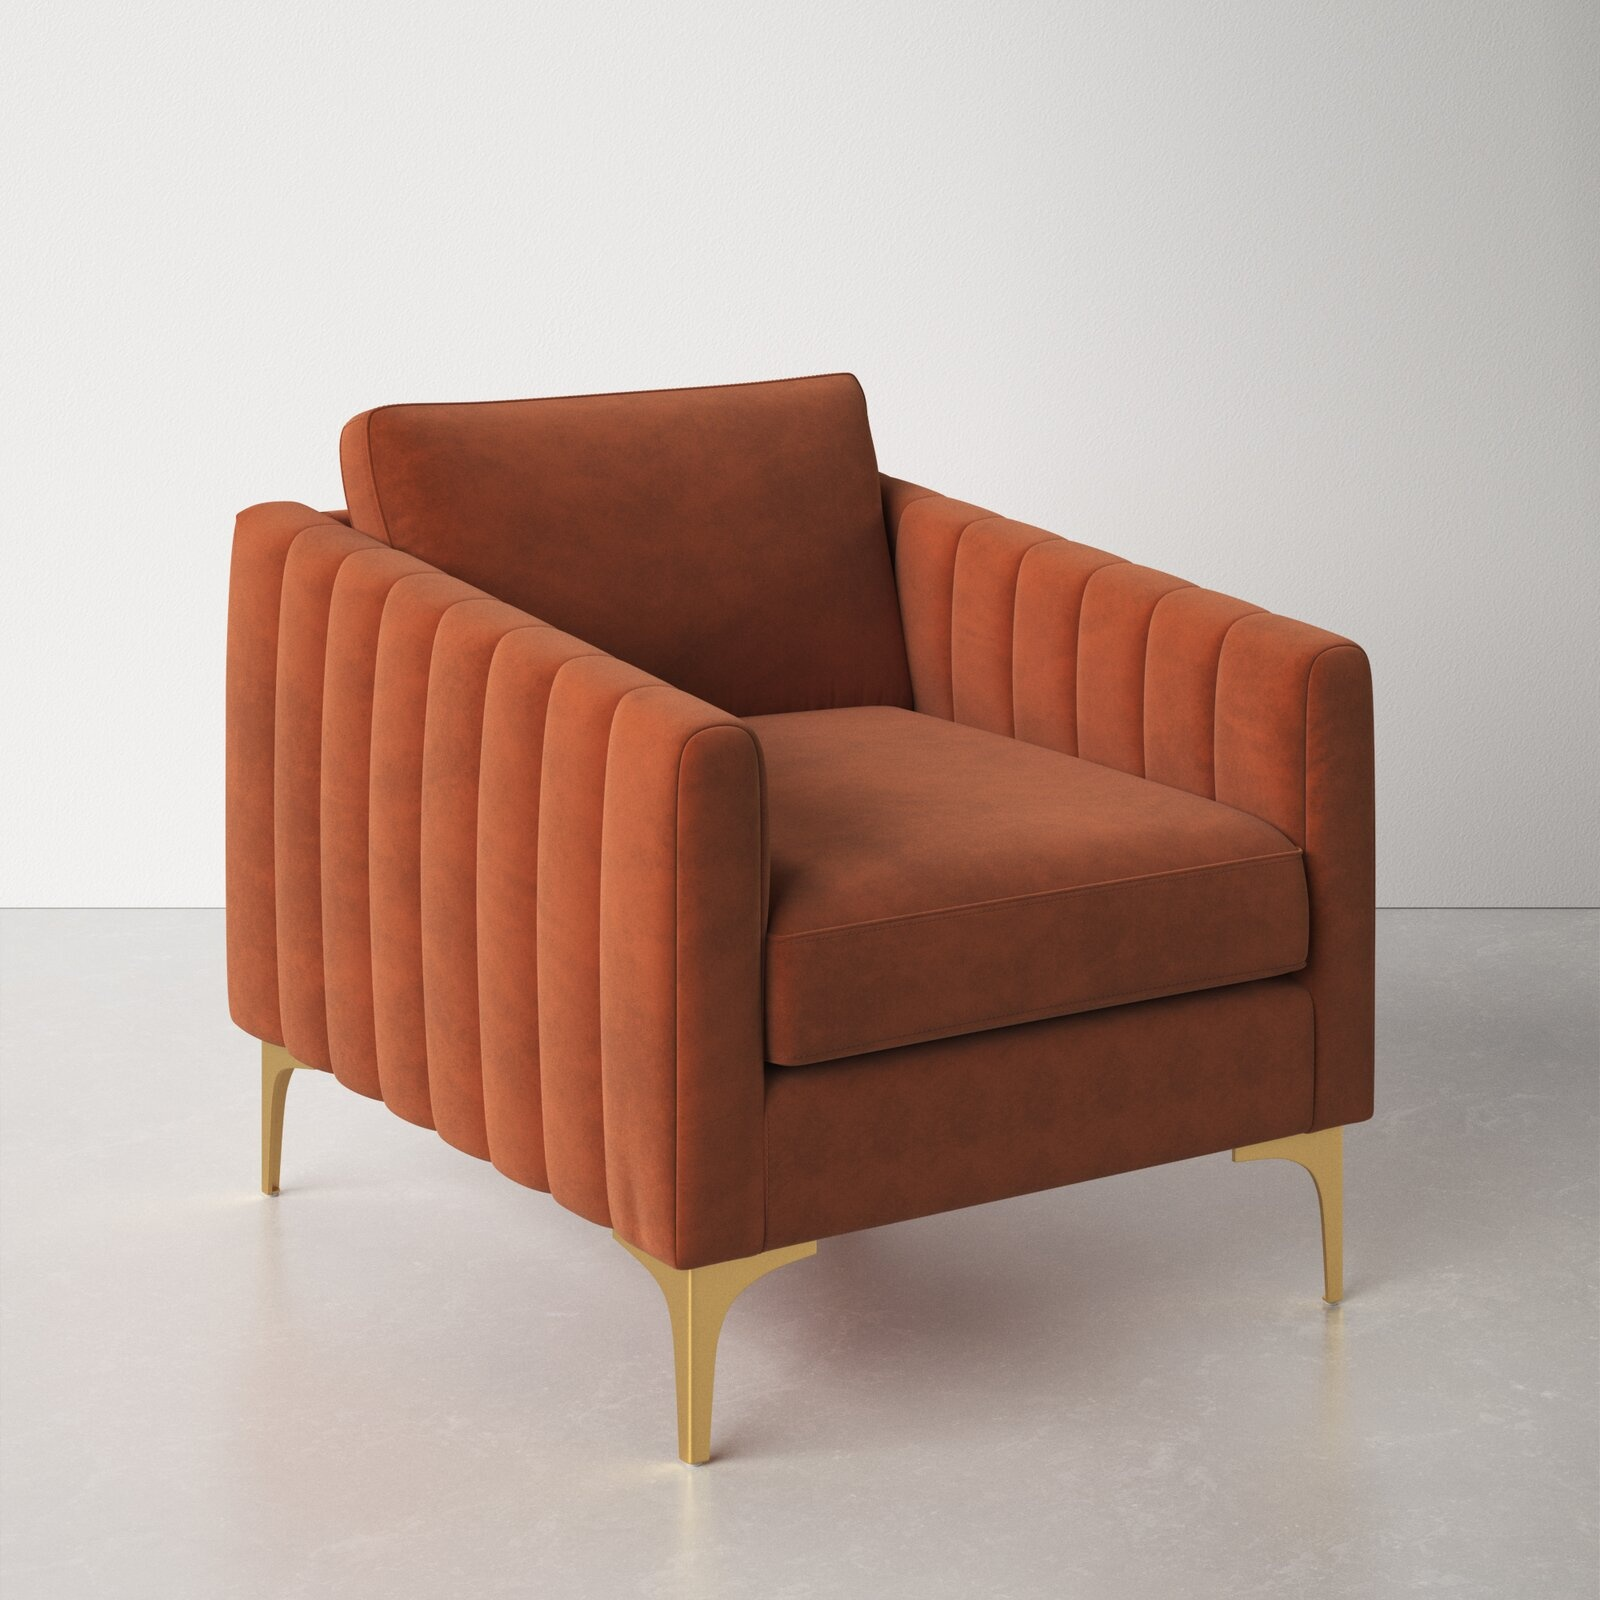obstacle: (227, 375, 1373, 1461)
